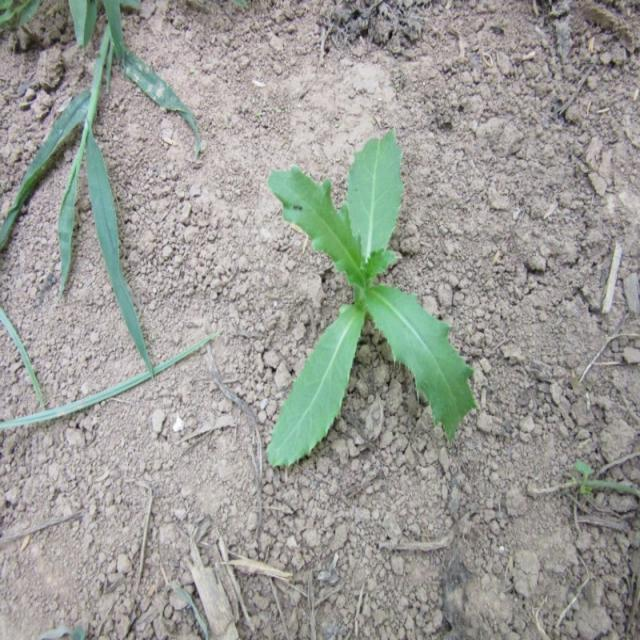cs: (262, 127, 478, 472)
